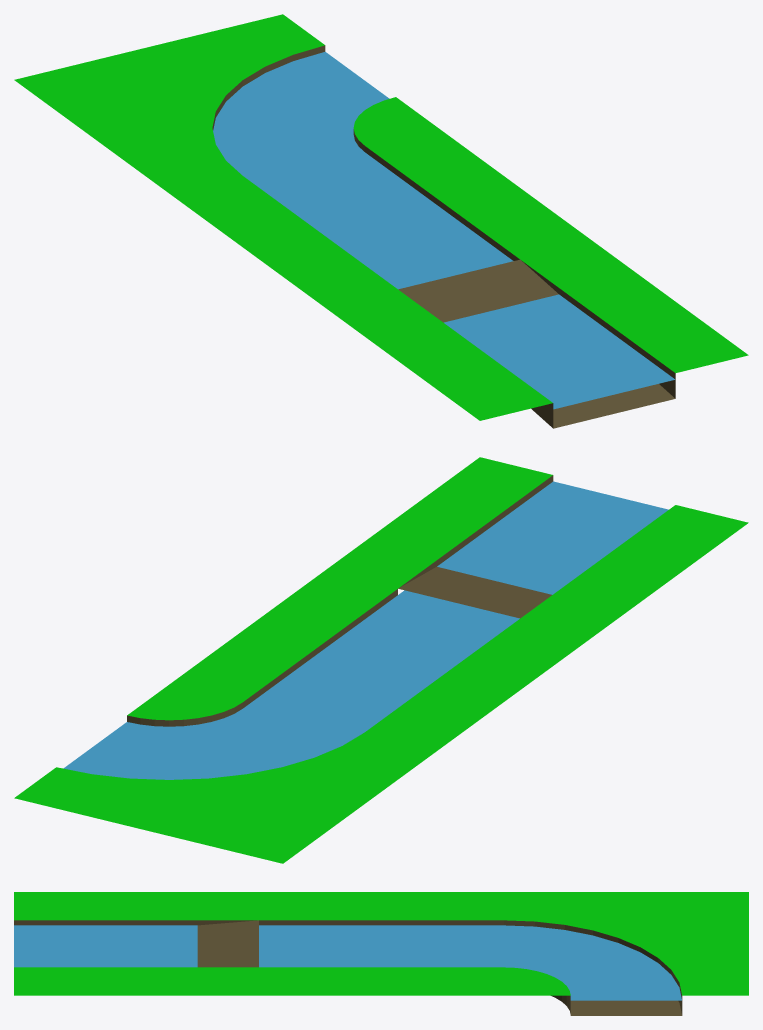
Rendered from Rivers.fbx.
3 renders of one model, top to bottom at view 1: azimuth 30°, elevation 25°; view 2: azimuth 150°, elevation 25°; view 3: azimuth 270°, elevation 25°, orthographic. The views are drawn at different scales.
Parts seen in each view (by area): view 1: River Slope, River Turn, River Straight, Water Straight, Water Turn, Water Slope; view 2: River Turn, River Slope, River Straight, Water Straight, Water Slope, Water Turn; view 3: River Turn, River Slope, River Straight, Water Straight, Water Turn, Water Slope.
Boxes of the visible parts, bbox=[...] form: River Slope: bbox=[325, 241, 748, 428]; River Turn: bbox=[14, 14, 437, 193]; River Straight: bbox=[170, 128, 592, 307]; Water Straight: bbox=[249, 152, 513, 289]; Water Turn: bbox=[213, 51, 389, 180]; Water Slope: bbox=[444, 294, 674, 409]; River Turn: bbox=[14, 684, 437, 863]; River Slope: bbox=[325, 457, 748, 636]; River Straight: bbox=[169, 571, 593, 749]; Water Straight: bbox=[243, 595, 513, 736]; Water Slope: bbox=[398, 481, 668, 623]; Water Turn: bbox=[63, 709, 356, 779]; River Turn: bbox=[504, 892, 748, 1015]; River Slope: bbox=[14, 892, 258, 995]; River Straight: bbox=[259, 892, 503, 995]; Water Straight: bbox=[259, 925, 503, 967]; Water Turn: bbox=[504, 925, 681, 1000]; Water Slope: bbox=[14, 925, 197, 967].
Bounding box in the file's own units: 22 × 2 × 66.
